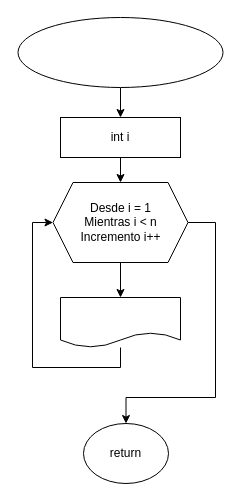
This 241x501 diagram has some shape labels left out. Here are the shapes that lost their labels. From the top down, the centre of each, then its label:
[120,52]: imprArr(int *arr, int n)
[120,322]: "%d, ", *(arr + i)
